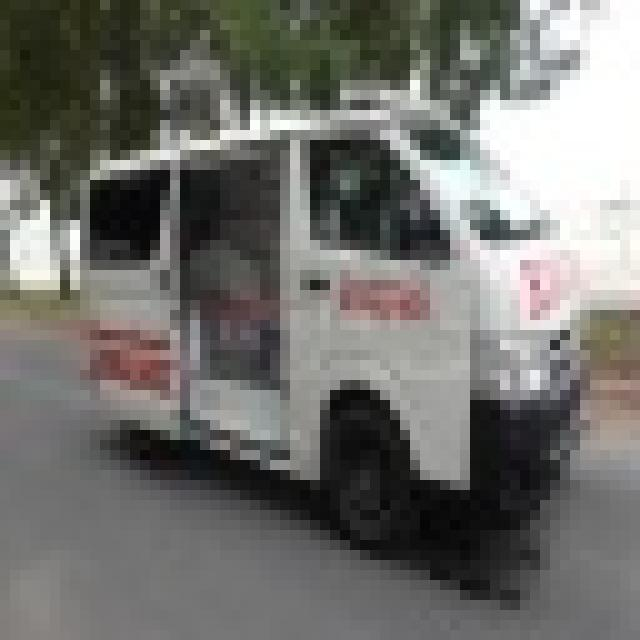Ambulance: (70, 70, 590, 540)
